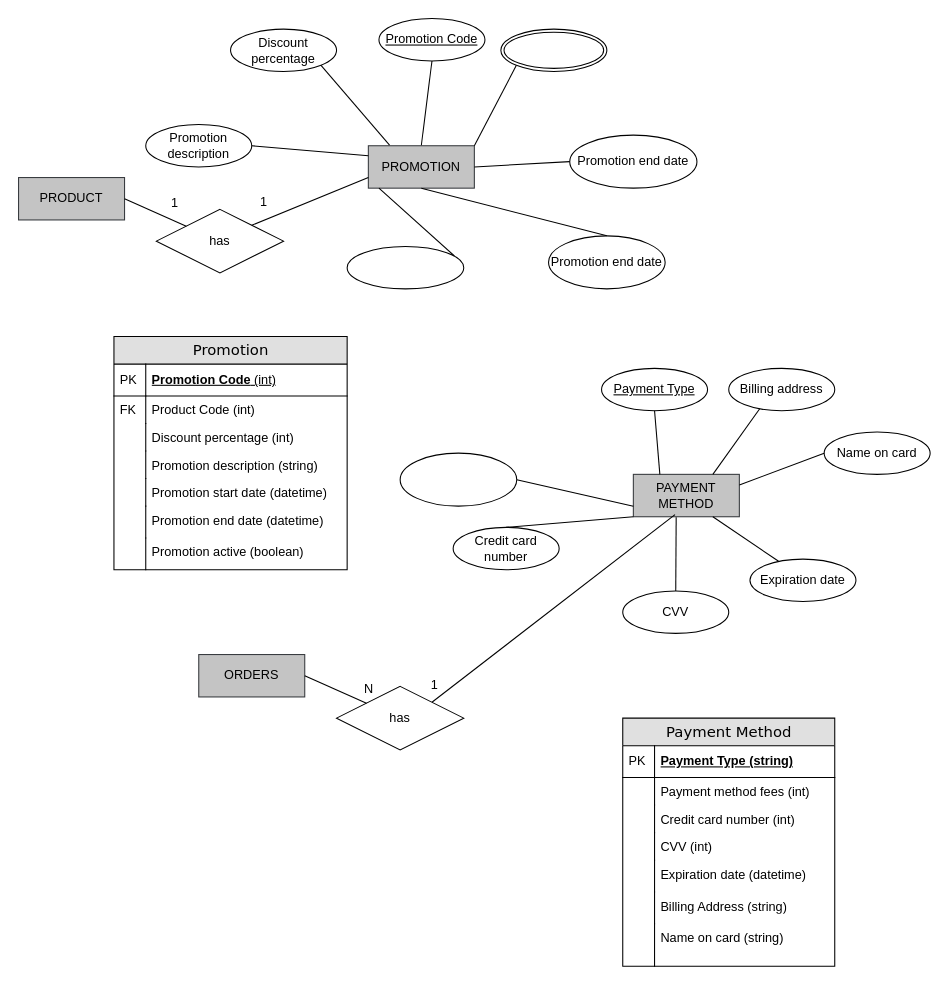
This 949x988 diagram has some shape labels left out. Here are the shapes that lost their labels. From the top down, the box of each, then its label:
(500, 28, 607, 72): Product Code
(346, 245, 464, 289): Promotion start date
(399, 452, 517, 506): Payment method fees
